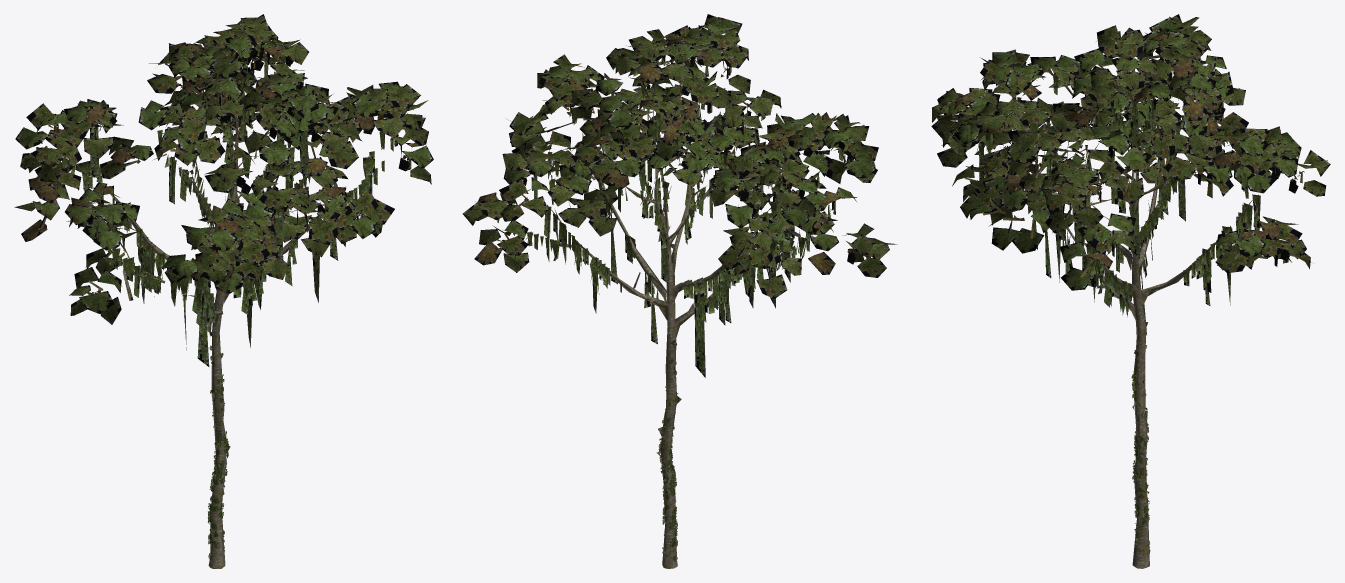
Rendered from jungle-trumpet-a-close.glb.
3 renders of one model, left to right at view 1: azimuth 30°, elevation 25°; view 2: azimuth 150°, elevation 25°; view 3: azimuth 270°, elevation 25°, orthographic. The views are drawn at different scales.
Visible parts, largest first — view 1: LOD0; view 2: LOD0; view 3: LOD0.
Part boxes in pixels (left/top/right/bottom): LOD0: left=14, top=14, right=433, bottom=568; LOD0: left=462, top=14, right=897, bottom=568; LOD0: left=931, top=14, right=1330, bottom=568.
Bounding box in the file's own units: 12.7 × 17.3 × 11.56.
Materials: 1 (1 with a texture image).
